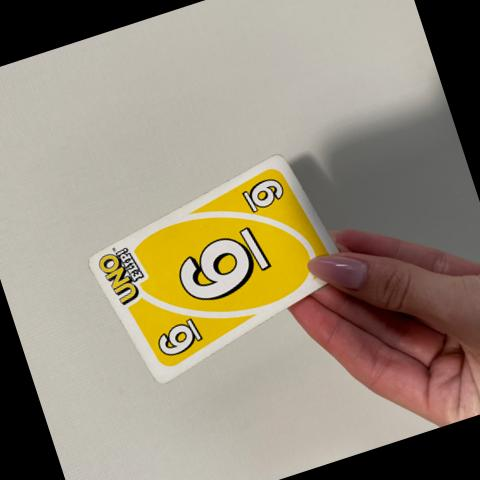0_yellow: (173, 228, 270, 302), (237, 179, 296, 214), (153, 320, 203, 356)
